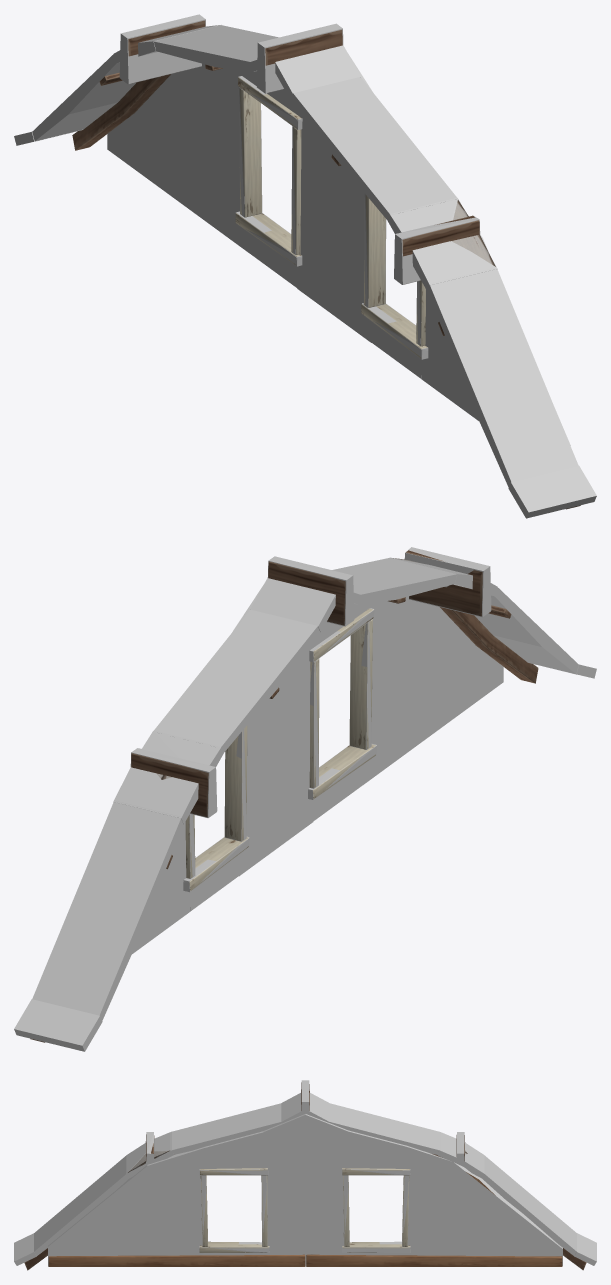
File: SM_Hangar01RE_5.fbx
The picture shows the model from 3 angles, top to bottom: view 1: azimuth 30°, elevation 25°; view 2: azimuth 150°, elevation 25°; view 3: azimuth 270°, elevation 25°; orthographic projection. The views are drawn at different scales.
Parts seen in each view (by area): view 1: SM_Hangar01RE_5_ConvexHulls, SM_Hangar01RE_5; view 2: SM_Hangar01RE_5_ConvexHulls, SM_Hangar01RE_5; view 3: SM_Hangar01RE_5_ConvexHulls, SM_Hangar01RE_5.
Part boxes in pixels (left/top/right/bottom): SM_Hangar01RE_5_ConvexHulls: left=14, top=14, right=596, bottom=518; SM_Hangar01RE_5: left=72, top=20, right=580, bottom=509; SM_Hangar01RE_5_ConvexHulls: left=14, top=547, right=596, bottom=1051; SM_Hangar01RE_5: left=30, top=550, right=538, bottom=1042; SM_Hangar01RE_5_ConvexHulls: left=14, top=1080, right=596, bottom=1266; SM_Hangar01RE_5: left=24, top=1082, right=586, bottom=1270.
Bounding box in the file's own units: 100 × 1021 × 328.
7 materials, 6 textured.
